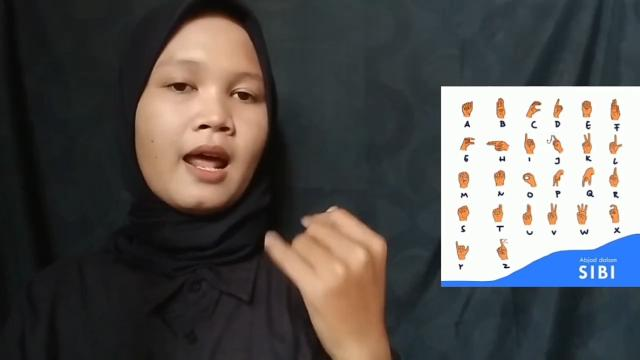J: (260, 204, 400, 360)
